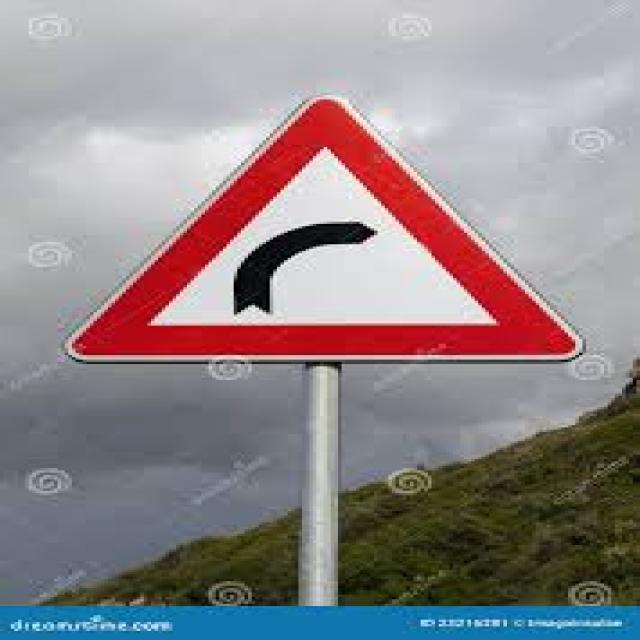warn_right_curve: (58, 90, 589, 369)
